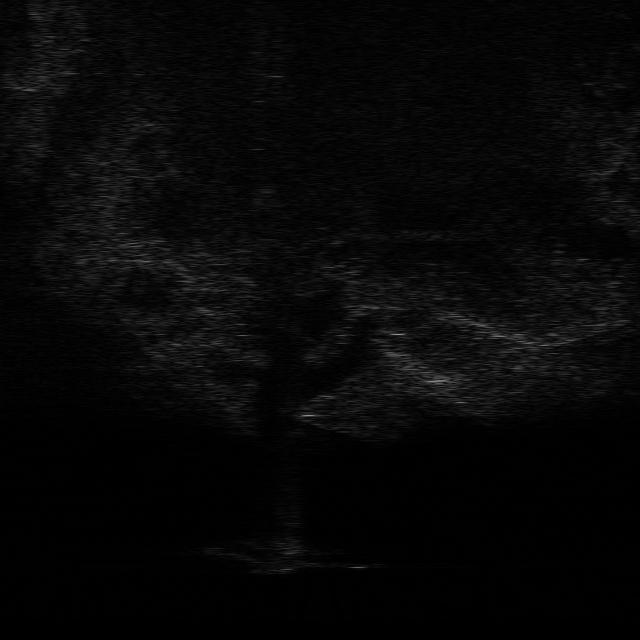plane: (204, 535, 368, 575)
